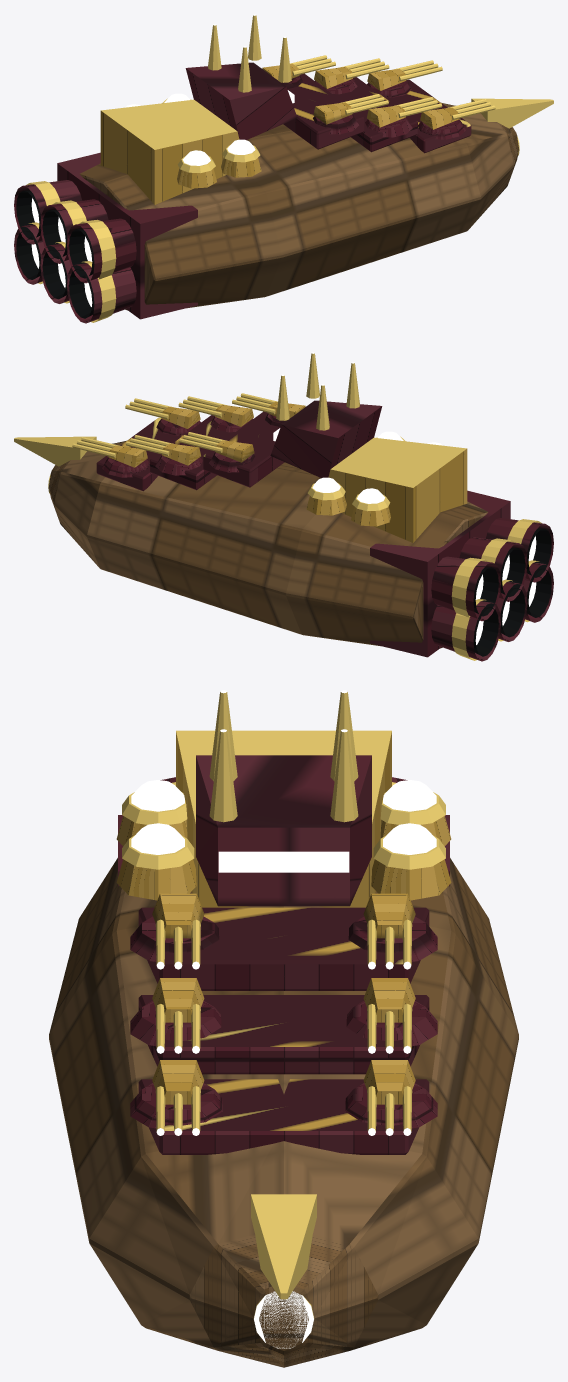
The model's file is dreadnought.glb.
3 renders of one model, top to bottom at view 1: azimuth 30°, elevation 25°; view 2: azimuth 150°, elevation 25°; view 3: azimuth 270°, elevation 25°, orthographic. The views are drawn at different scales.
Visible parts, largest first — view 1: hull_body, engine_block, weapon_turrets, sensor_tower, shield_domes; view 2: hull_body, engine_block, weapon_turrets, sensor_tower, shield_domes; view 3: hull_body, weapon_turrets, sensor_tower, shield_domes.
Boxes of the visible parts, <box> form: hull_body: <box>80,73,553,310</box>; engine_block: <box>14,152,197,323</box>; weapon_turrets: <box>262,55,519,156</box>; sensor_tower: <box>185,14,297,140</box>; shield_domes: <box>125,93,261,188</box>; hull_body: <box>14,411,487,648</box>; engine_block: <box>370,490,553,661</box>; weapon_turrets: <box>48,393,305,494</box>; sensor_tower: <box>270,352,382,478</box>; shield_domes: <box>306,431,442,526</box>; hull_body: <box>49,730,518,1367</box>; weapon_turrets: <box>130,893,437,1348</box>; sensor_tower: <box>196,690,371,906</box>; shield_domes: <box>116,780,451,900</box>.
Size of the model in its own units: 80 by 37.73 by 32.62.
Materials: 1 (1 with a texture image).
